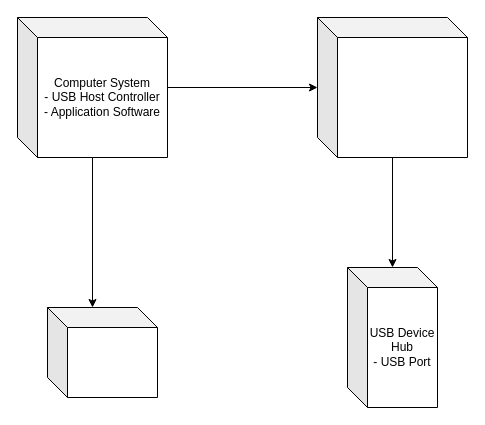
Some shapes in this 485 by 425 pixel diagram are drawn without their labels. Here are the shapes that lost their labels. From the top down, the centre of each, then its label:
At [392,87]: "USB Peripheral - USB Device - USB Interface Controller".
At [102,352]: "USB Hub - USB Port".
